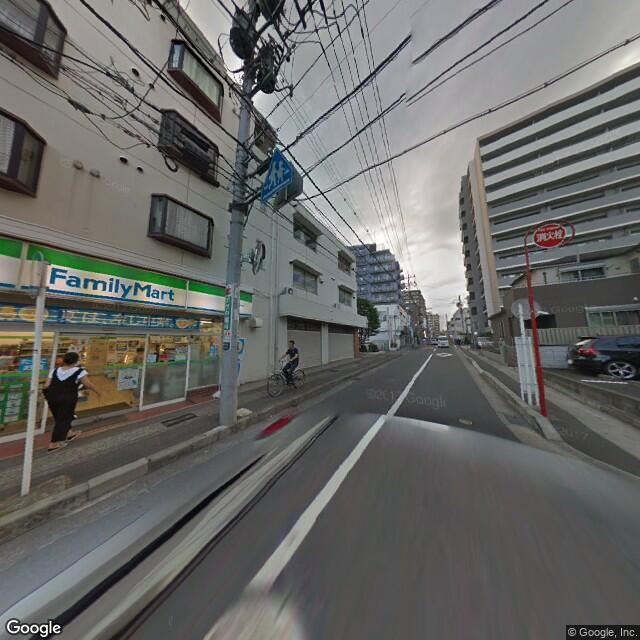family_mart: (2, 234, 255, 315), (44, 260, 178, 305)
